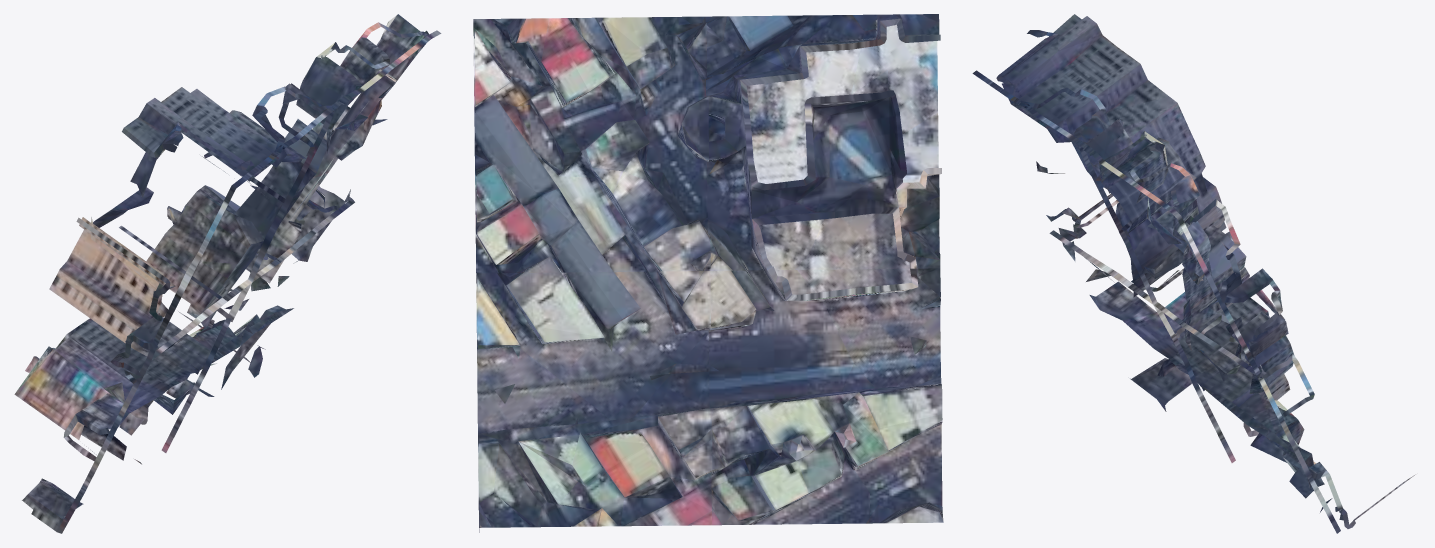
3 views of the same model, side by side, from view 1: azimuth 30°, elevation 25°; view 2: azimuth 150°, elevation 25°; view 3: azimuth 270°, elevation 25° (orthographic). The views are drawn at different scales.
Size of the model in its own units: 161 by 156 by 156.
1 material, 1 textured.
